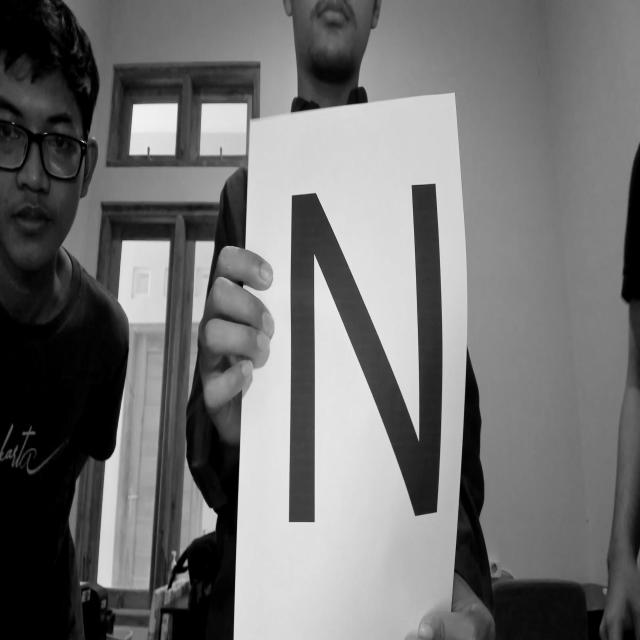n: (268, 163, 483, 564)
